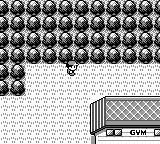main: (66, 61, 79, 75)
no-caminable: (0, 0, 159, 96), (91, 96, 159, 143)
